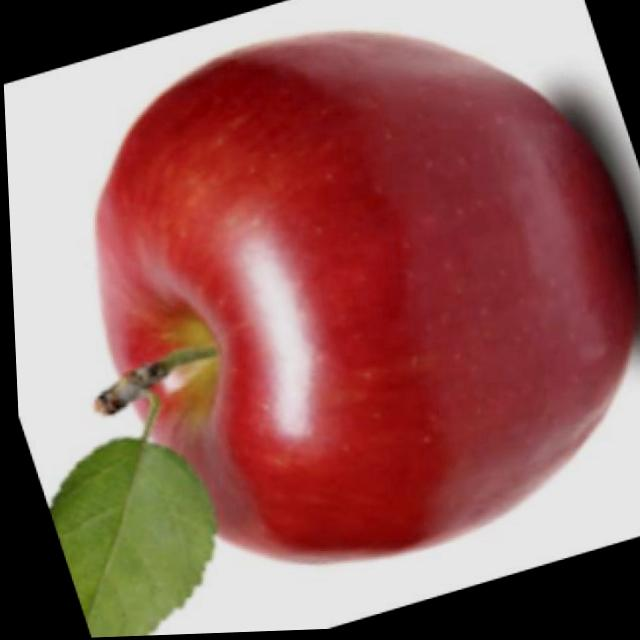Apple: (79, 26, 640, 576)
